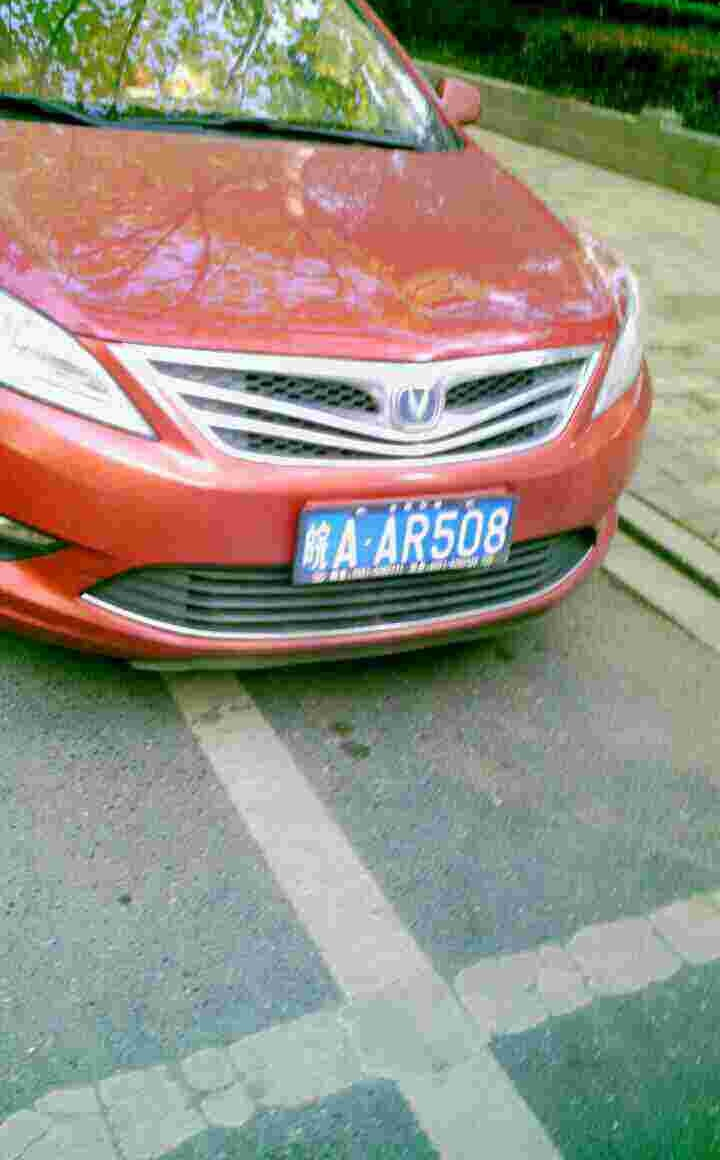license_plate: (298, 501, 515, 569)
